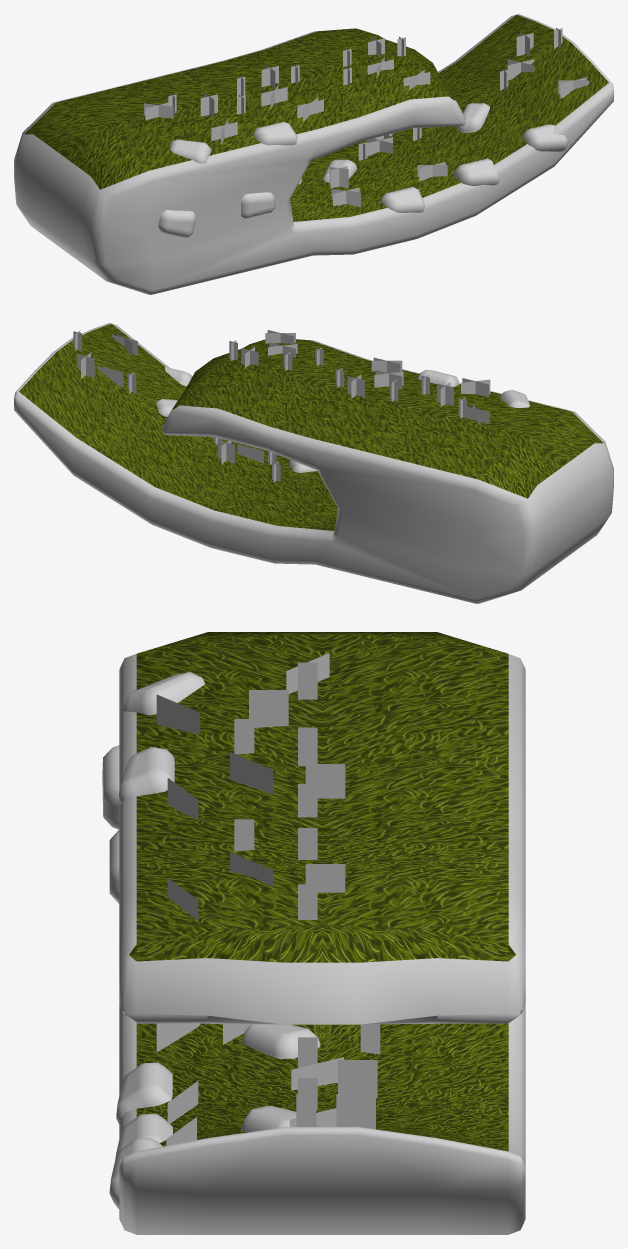
File: platform2_floating_cave.fbx
The picture shows the model from 3 angles, top to bottom: view 1: azimuth 30°, elevation 25°; view 2: azimuth 150°, elevation 25°; view 3: azimuth 270°, elevation 25°; orthographic projection. The views are drawn at different scales.
Parts seen in each view (by area): view 1: Mesh; view 2: Mesh; view 3: Mesh.
Part boxes in pixels (x1,y1,x2,y2): Mesh: [14, 14, 613, 294]; Mesh: [14, 323, 613, 603]; Mesh: [102, 632, 525, 1234].
Size of the model in its own units: 2420 by 738 by 865.
